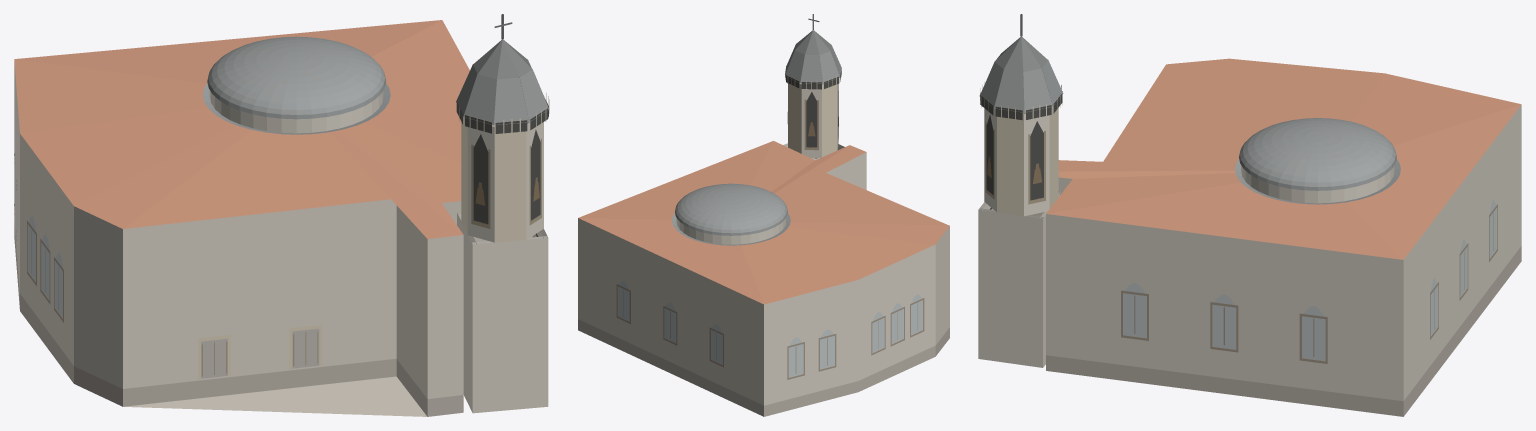
Rendered from CHURCH.glb.
The picture shows the model from 3 angles, left to right: view 1: azimuth 30°, elevation 25°; view 2: azimuth 150°, elevation 25°; view 3: azimuth 270°, elevation 25°; orthographic projection. The views are drawn at different scales.
Visible parts, largest first — view 1: CHURCH; view 2: CHURCH; view 3: CHURCH.
Part boxes in pixels (bbox=[...]): CHURCH: bbox=[14, 14, 549, 416]; CHURCH: bbox=[578, 14, 949, 416]; CHURCH: bbox=[978, 14, 1521, 416].
Bounding box in the file's own units: 21.99 × 17.08 × 25.09.
